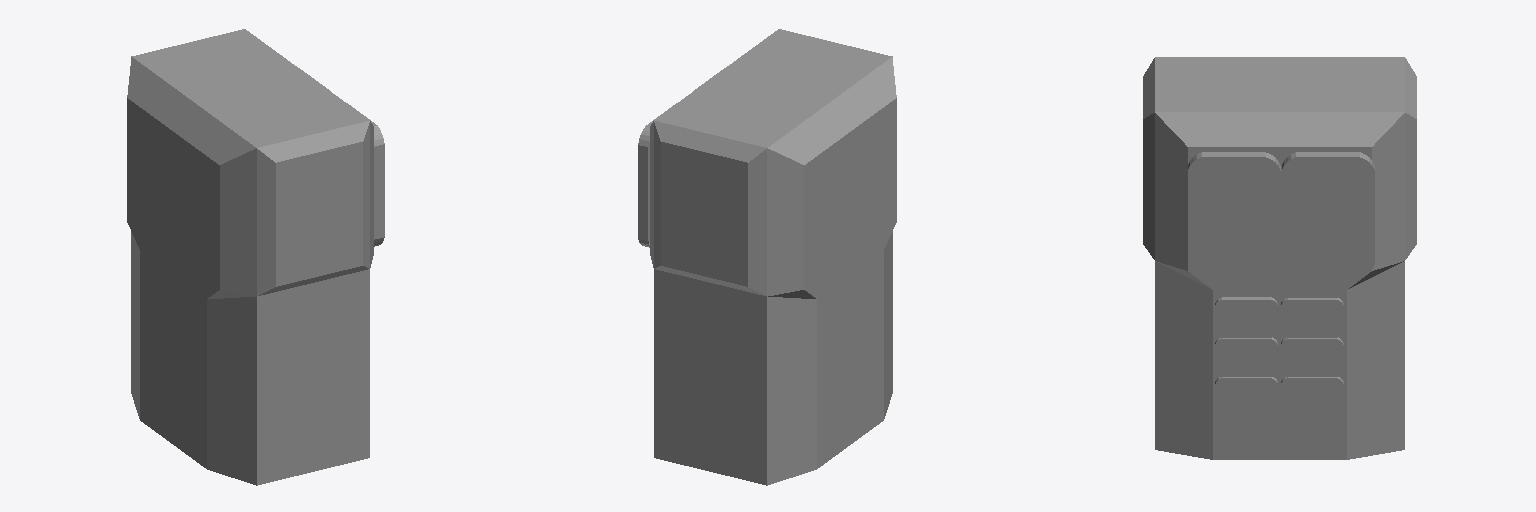
File: multi_body_arm.obj
The picture shows the model from 3 angles: view 1: azimuth 30°, elevation 25°; view 2: azimuth 150°, elevation 25°; view 3: azimuth 270°, elevation 25°; orthographic projection.
Visible parts, largest first — view 1: chest_Cube; view 2: chest_Cube; view 3: chest_Cube.
Part boxes in pixels (bbox=[...]): chest_Cube: bbox=[127, 29, 384, 485]; chest_Cube: bbox=[638, 29, 896, 485]; chest_Cube: bbox=[1143, 57, 1416, 459].
Bounding box in the file's own units: 0.4435 × 0.8663 × 0.6376.